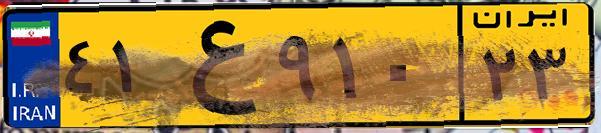0: (385, 28, 445, 110)
1: (330, 28, 385, 110), (110, 28, 158, 98)
2: (475, 38, 525, 113)
3: (525, 38, 570, 115)
4: (57, 26, 110, 100)
9: (270, 28, 330, 110)
ع: (158, 12, 270, 120)
